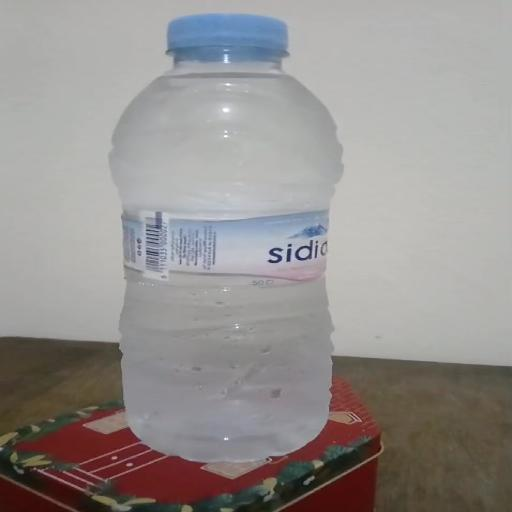bouteille conformite: (117, 14, 341, 461)
